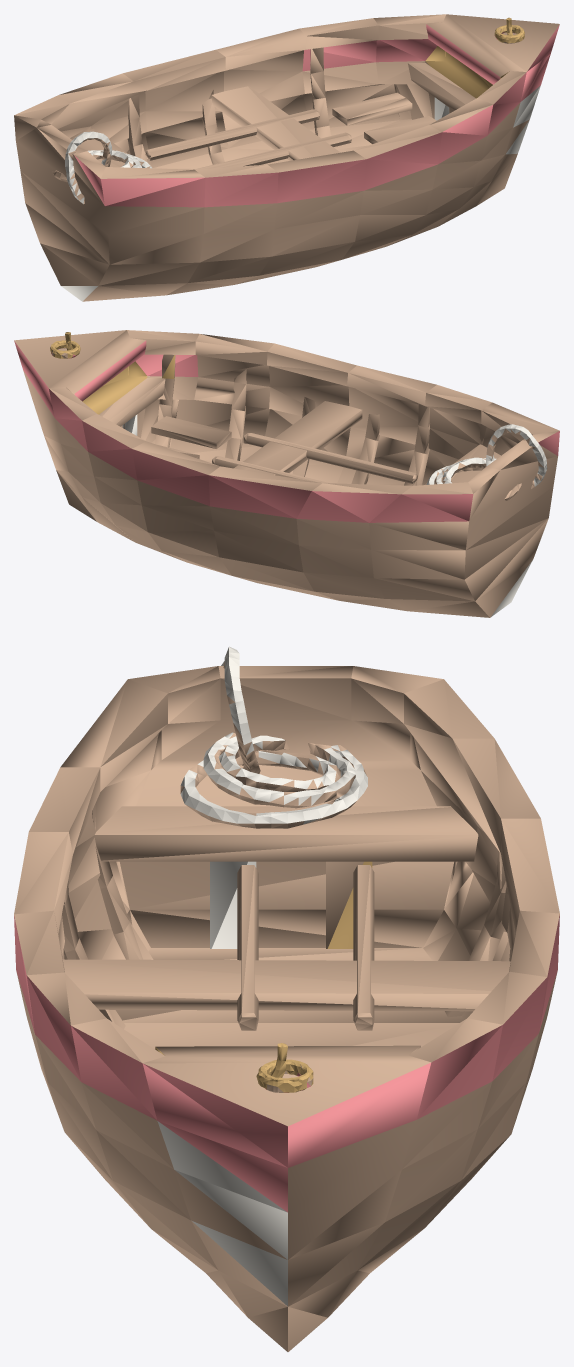
File: boat.glb
The picture shows the model from 3 angles, top to bottom: view 1: azimuth 30°, elevation 25°; view 2: azimuth 150°, elevation 25°; view 3: azimuth 270°, elevation 25°; orthographic projection. The views are drawn at different scales.
Parts seen in each view (by area): view 1: tripo_node_c1670ad6-6301-4a3d-b63f-d67fe43a8e37; view 2: tripo_node_c1670ad6-6301-4a3d-b63f-d67fe43a8e37; view 3: tripo_node_c1670ad6-6301-4a3d-b63f-d67fe43a8e37.
Part boxes in pixels (x1,y1,x2,y2): tripo_node_c1670ad6-6301-4a3d-b63f-d67fe43a8e37: [14, 14, 559, 301]; tripo_node_c1670ad6-6301-4a3d-b63f-d67fe43a8e37: [14, 330, 559, 617]; tripo_node_c1670ad6-6301-4a3d-b63f-d67fe43a8e37: [14, 646, 559, 1351].
Size of the model in its own units: 0.998 by 0.3223 by 0.5059.
